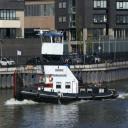tugboat: (14, 30, 121, 108)
